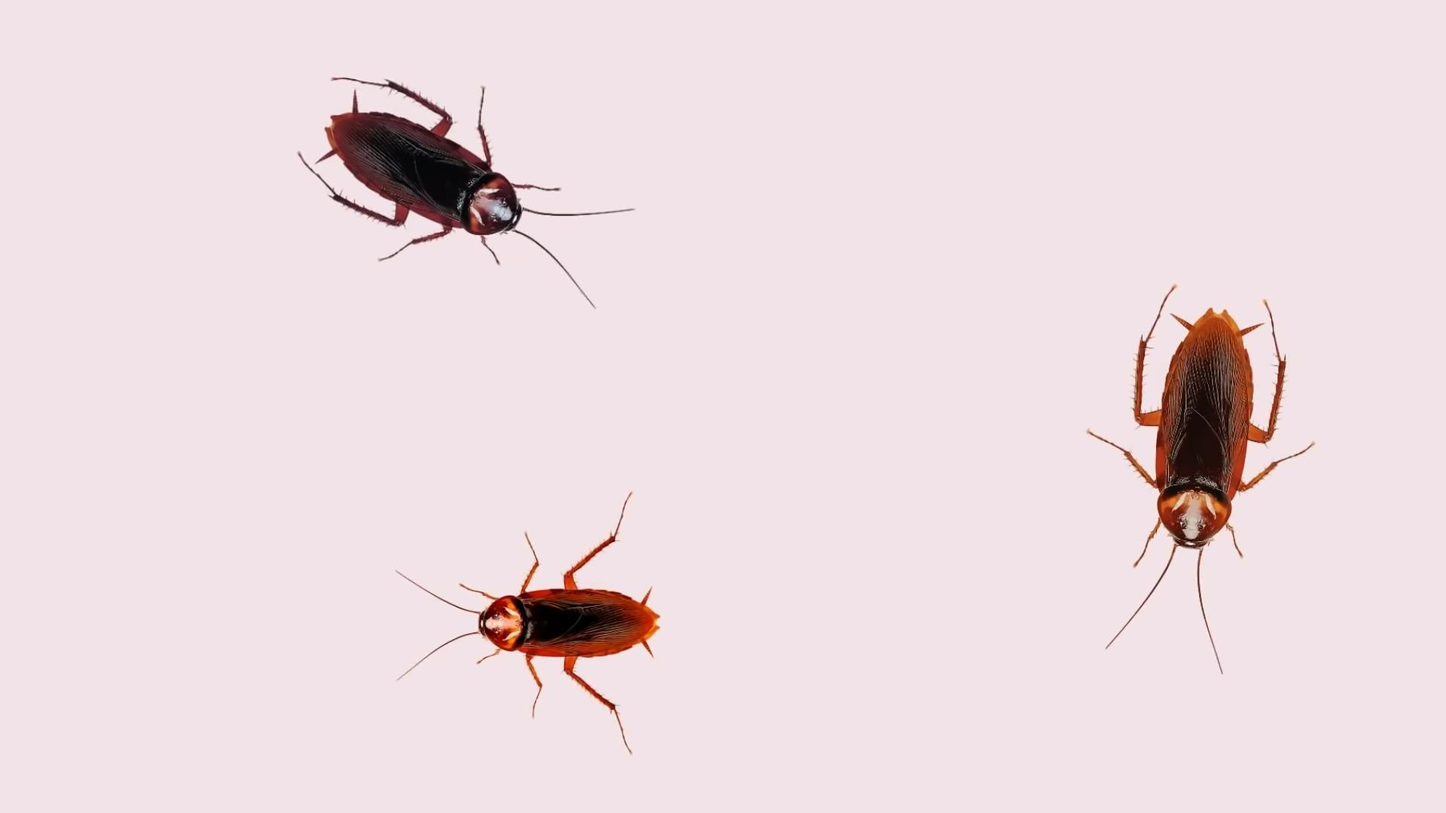cockroach: (304, 76, 614, 289), (1139, 275, 1281, 631), (418, 537, 661, 700)
